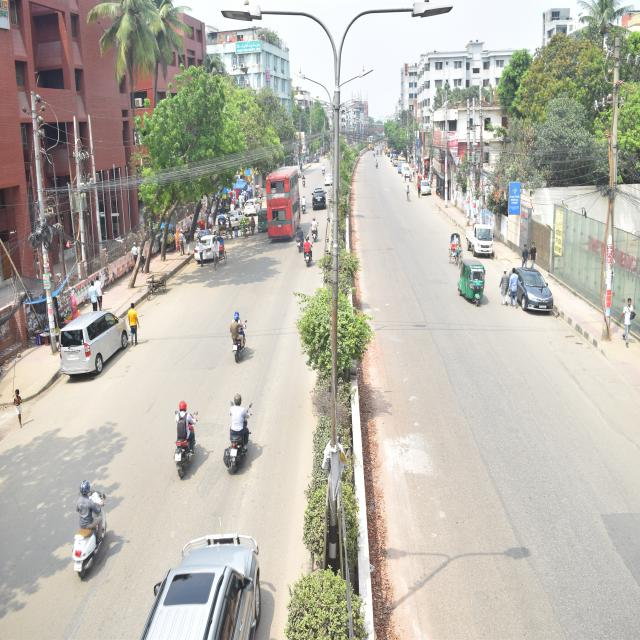car: (144, 499, 262, 640), (44, 291, 155, 402), (507, 255, 571, 349), (183, 209, 251, 288), (234, 180, 268, 230), (414, 172, 444, 226), (400, 162, 433, 202), (308, 174, 332, 223), (318, 163, 342, 203)
motorbike: (38, 431, 124, 603), (204, 395, 269, 465), (218, 304, 270, 388), (161, 398, 208, 471), (302, 230, 321, 278), (307, 211, 326, 249), (296, 220, 306, 262), (300, 191, 312, 219), (371, 147, 383, 173), (318, 156, 329, 184), (300, 172, 313, 195), (374, 158, 386, 182)
pickup-van: (458, 204, 512, 268), (394, 156, 422, 179)
